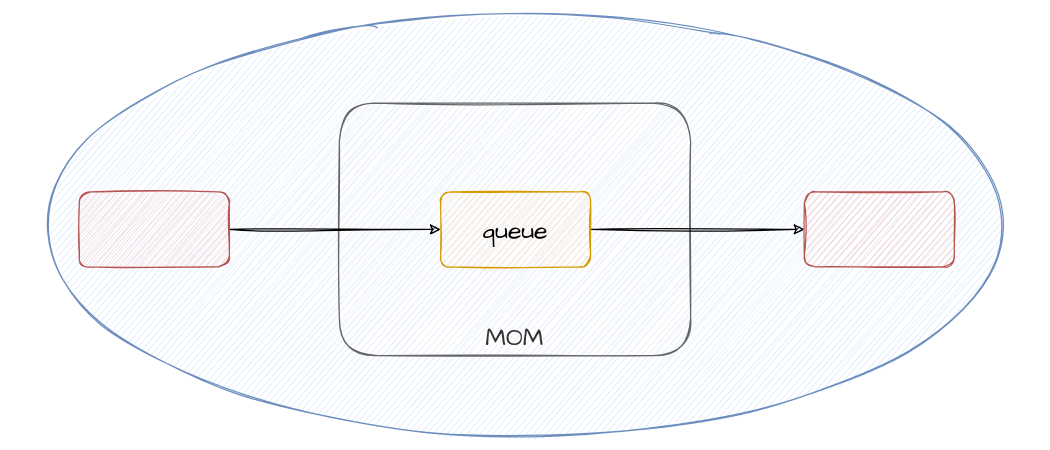
The diagram is 1050 pixels wide and 450 high, and some of its shapes have lost their labels. The centre of each missing label's shape, as x and y in pixels:
"application 1" belongs at [153,229].
"application 2" belongs at [878,229].
